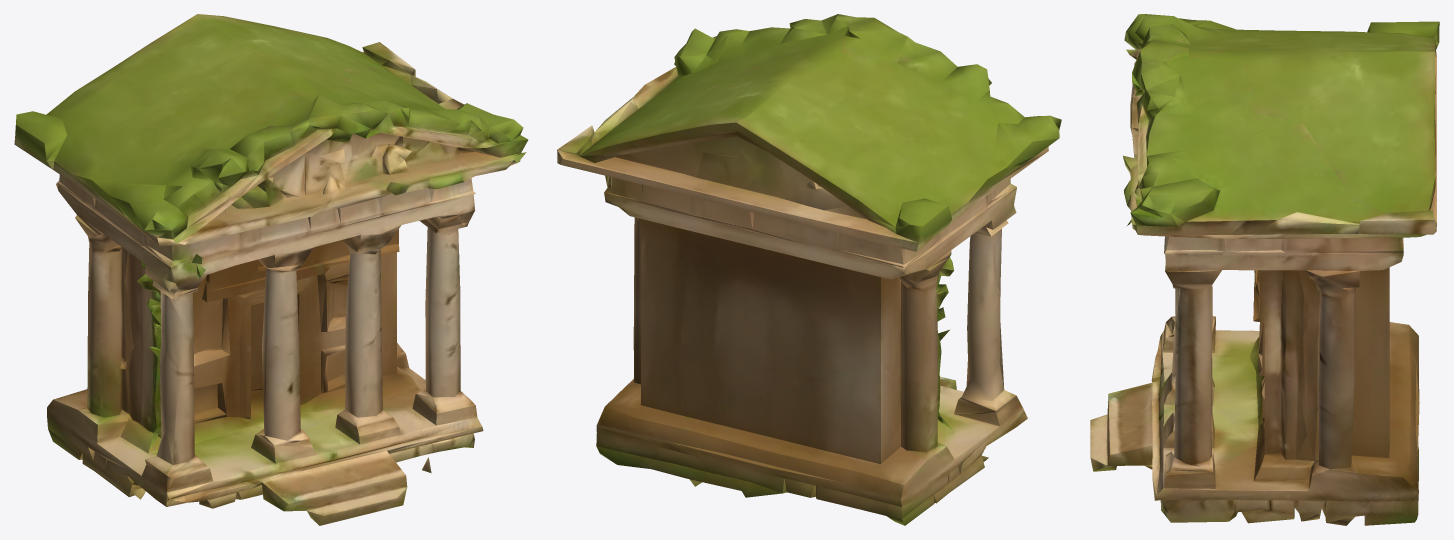
File: m2SunkenTempleBg.glb
The picture shows the model from 3 angles, left to right: view 1: azimuth 30°, elevation 25°; view 2: azimuth 150°, elevation 25°; view 3: azimuth 270°, elevation 25°; orthographic projection. The views are drawn at different scales.
Parts seen in each view (by area): view 1: model; view 2: model; view 3: model.
Part boxes in pixels (bbox=[...]): model: bbox=[14, 14, 528, 525]; model: bbox=[557, 14, 1061, 525]; model: bbox=[1090, 14, 1439, 525].
Bounding box in the file's own units: 1.88 × 1.88 × 1.45.
Materials: 1 (1 with a texture image).
